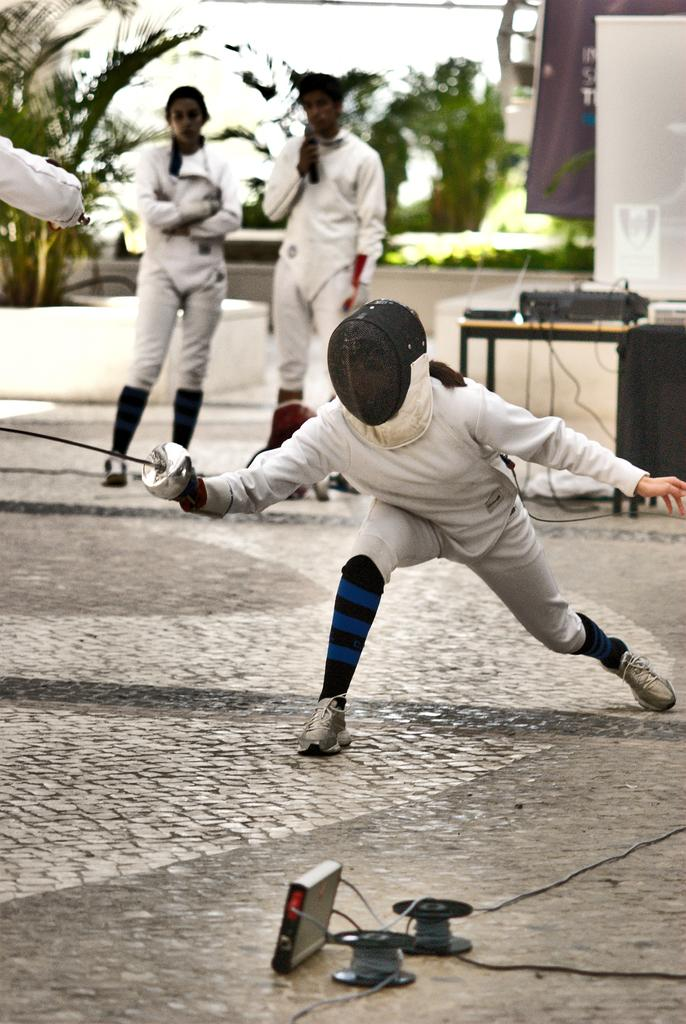knife: (1, 422, 191, 504)
non-violence: (247, 69, 399, 464), (108, 81, 254, 492)
violence: (201, 304, 686, 762)
